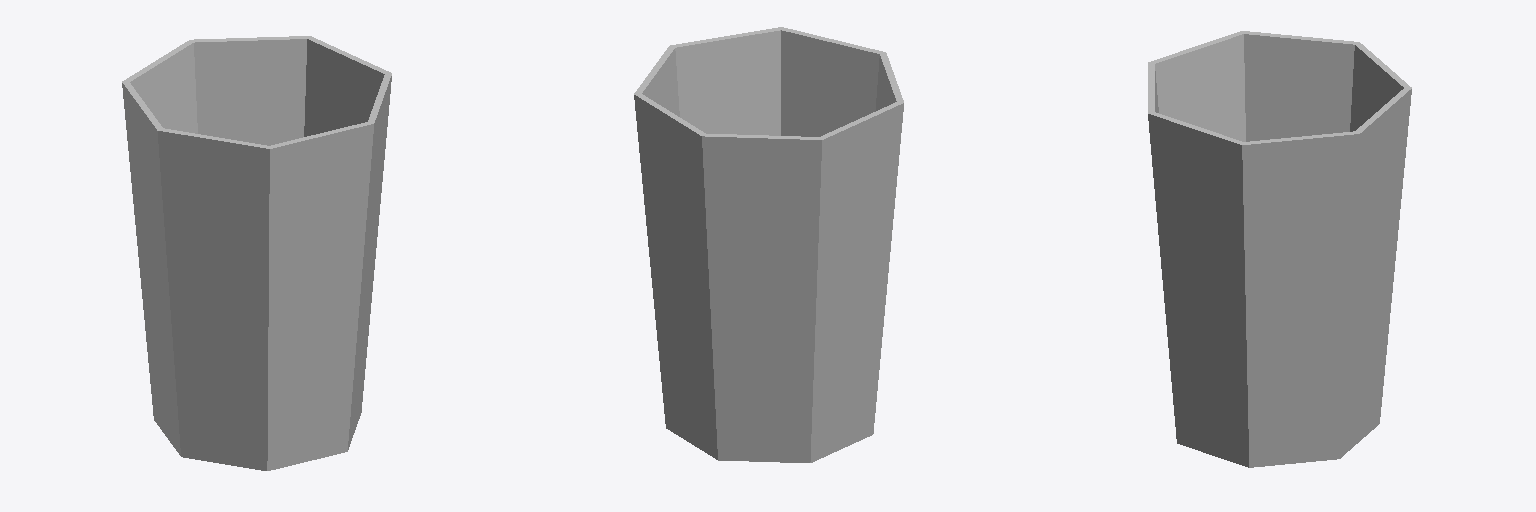
The model's file is trash_bucket1.obj.
The picture shows the model from 3 angles: view 1: azimuth 30°, elevation 25°; view 2: azimuth 150°, elevation 25°; view 3: azimuth 270°, elevation 25°; orthographic projection.
Parts seen in each view (by area): view 1: trash_bin; view 2: trash_bin; view 3: trash_bin.
Part boxes in pixels (x1,y1,x2,y2): trash_bin: (122, 36, 391, 470); trash_bin: (634, 27, 903, 462); trash_bin: (1148, 31, 1411, 467).
Size of the model in its own units: 0.2925 by 0.3998 by 0.2851.